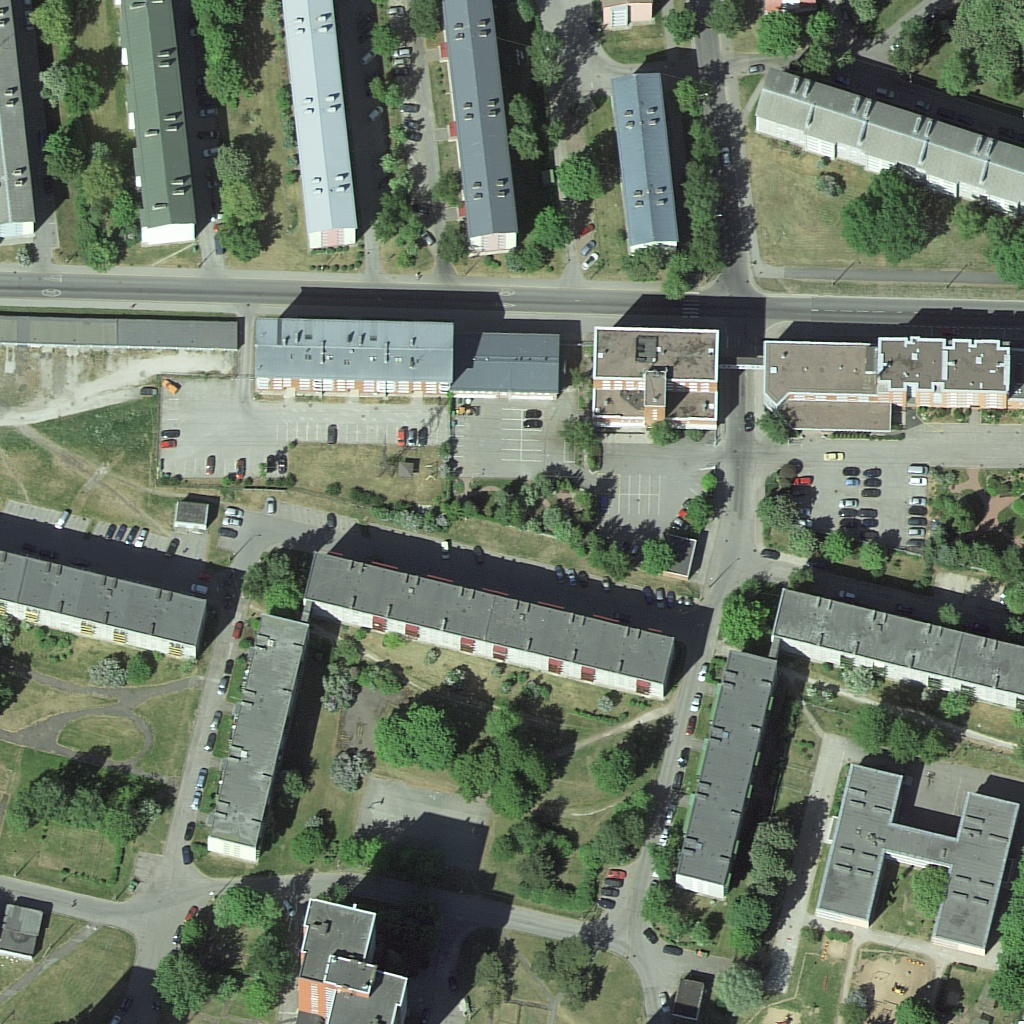building: (295, 549, 684, 703), (754, 64, 1024, 214), (771, 591, 1019, 711), (201, 609, 310, 865), (671, 650, 773, 902), (0, 548, 212, 661), (434, 7, 520, 256), (760, 336, 1013, 411), (285, 5, 363, 244), (126, 5, 204, 240), (250, 318, 458, 397), (922, 792, 1020, 959), (811, 755, 904, 928), (592, 320, 724, 432), (607, 73, 684, 255), (296, 897, 408, 1021), (4, 310, 241, 353), (456, 327, 561, 403)
